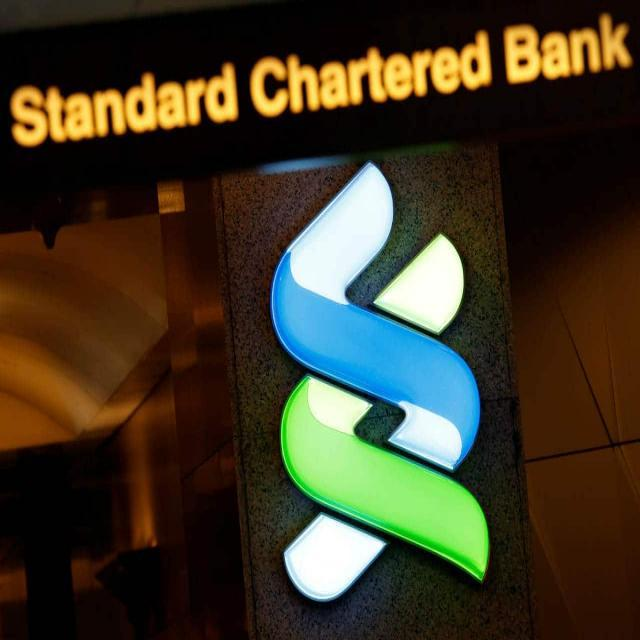Standard Chartered: (271, 161, 485, 594)
